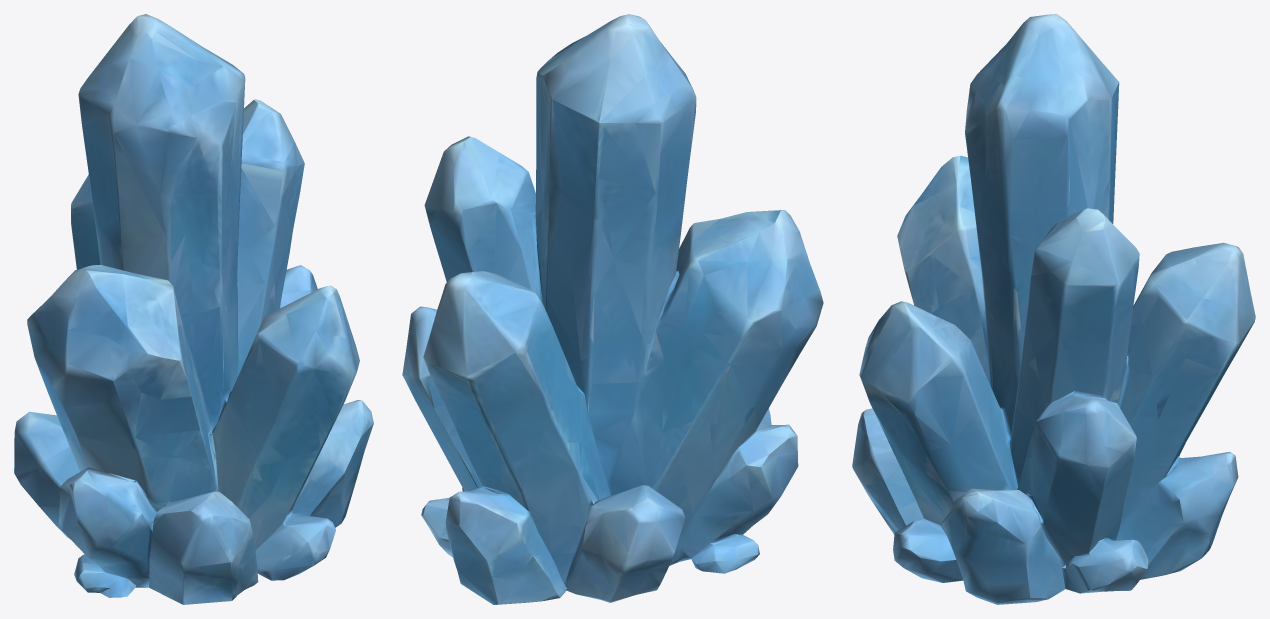
The model's file is racimo_hielo_m_2500.glb.
3 renders of one model, left to right at view 1: azimuth 30°, elevation 25°; view 2: azimuth 150°, elevation 25°; view 3: azimuth 270°, elevation 25°, orthographic. The views are drawn at different scales.
Parts seen in each view (by area): view 1: racimo_hielo_m_malla; view 2: racimo_hielo_m_malla; view 3: racimo_hielo_m_malla.
Boxes of the visible parts, x1,y1,x2,y2 form: racimo_hielo_m_malla: (14, 14, 373, 604); racimo_hielo_m_malla: (402, 14, 823, 604); racimo_hielo_m_malla: (852, 14, 1255, 604).
Size of the model in its own units: 0.1546 by 0.2385 by 0.1684.
Materials: 1 (1 with a texture image).
